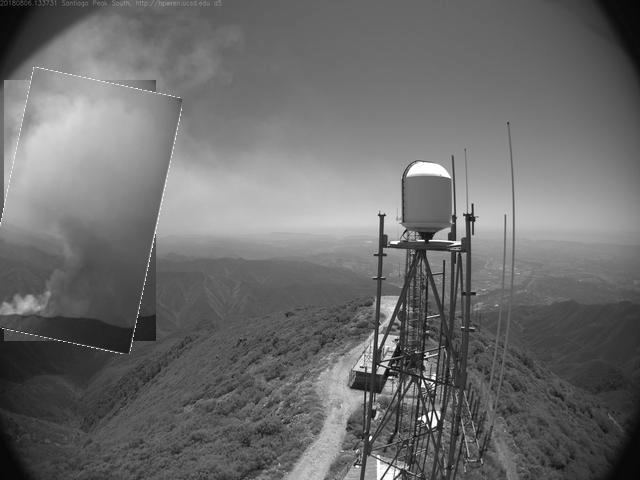smoke: (1, 74, 171, 350)
